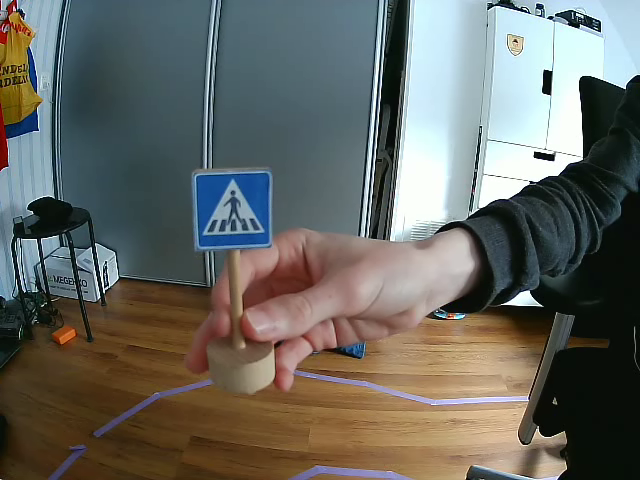zebrapad: (194, 170, 272, 252)
